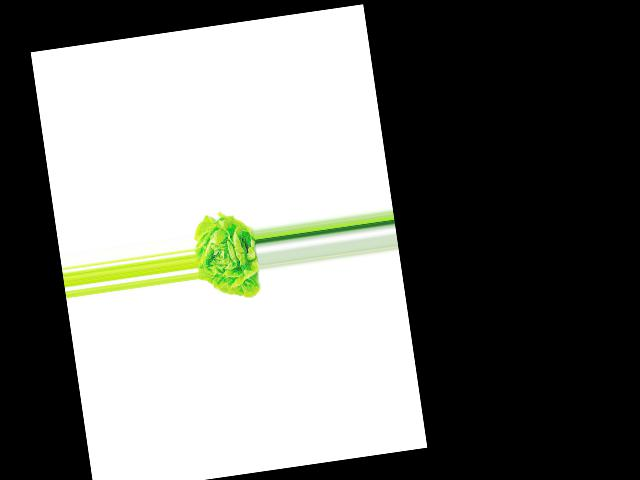lettuce: (190, 210, 264, 306)
